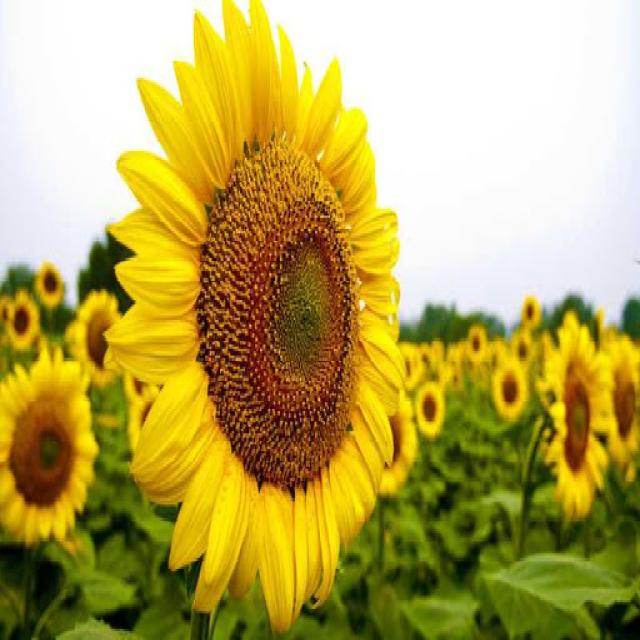sunflower: (117, 0, 414, 624), (0, 354, 104, 554), (536, 300, 615, 522), (60, 290, 132, 388), (604, 330, 640, 479), (489, 356, 528, 426), (0, 288, 41, 348), (413, 379, 446, 442), (30, 259, 68, 310), (463, 322, 488, 368), (518, 294, 542, 330)
